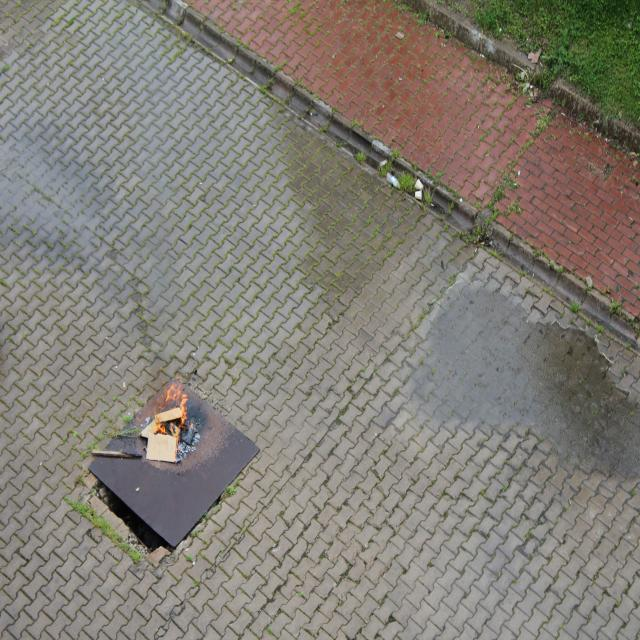fire: (153, 373, 194, 437)
